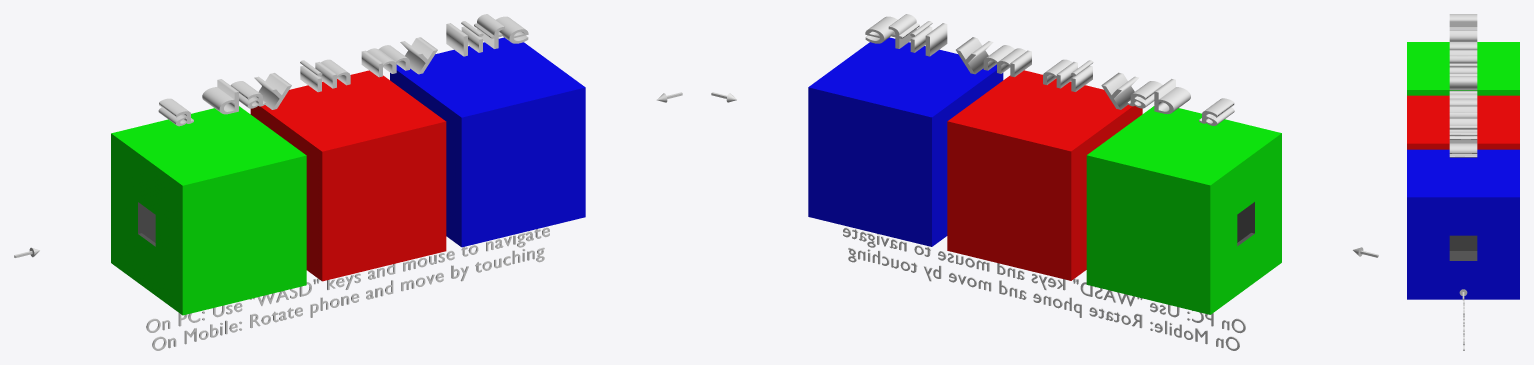
Rendered from adayinmylife.glb.
3 renders of one model, left to right at view 1: azimuth 30°, elevation 25°; view 2: azimuth 150°, elevation 25°; view 3: azimuth 270°, elevation 25°, orthographic. The views are drawn at different scales.
Visible parts, largest first — view 1: Text; view 2: Text; view 3: Text.
Part boxes in pixels (x1=…): Text: x1=14, y1=14, x2=682, y2=350; Text: x1=711, y1=14, x2=1378, y2=350; Text: x1=1407, y1=14, x2=1519, y2=350.
Size of the model in its own units: 23.9 by 8.65 by 4.44.
